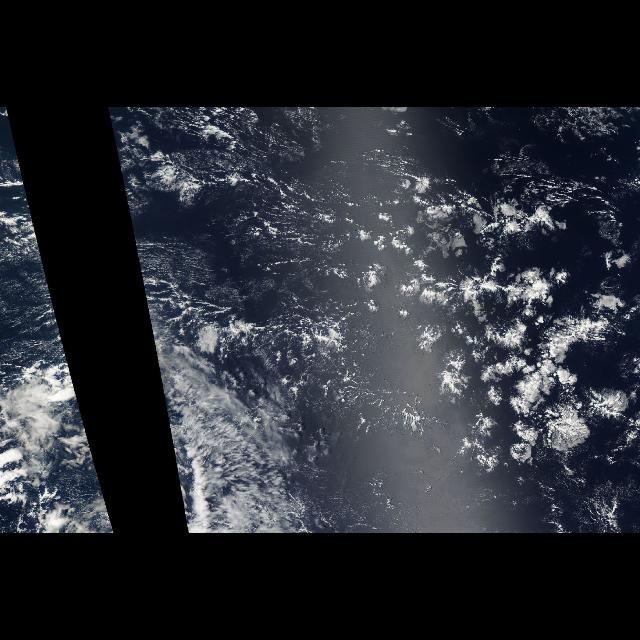Flower: (338, 194, 606, 476)
Gravel: (222, 188, 386, 329), (304, 342, 438, 448)
Sugar: (143, 207, 219, 296)
